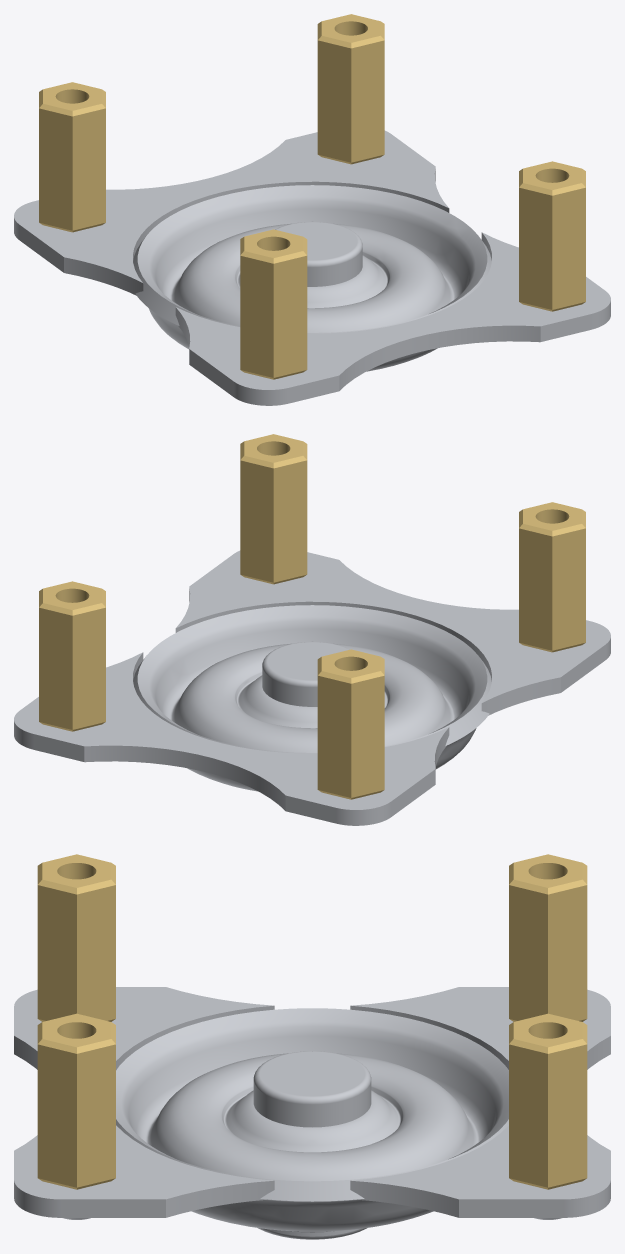
The model's file is swivel_caster_30mm_base.glb.
3 views of the same model, one above another, from view 1: azimuth 30°, elevation 25°; view 2: azimuth 150°, elevation 25°; view 3: azimuth 270°, elevation 25° (orthographic). The views are drawn at different scales.
Visible parts, largest first — view 1: plate, standoffs; view 2: plate, standoffs; view 3: plate, standoffs.
Part boxes in pixels (left/top/right/bottom): plate: left=14, top=130, right=610, bottom=405; standoffs: left=39, top=14, right=585, bottom=379; plate: left=14, top=550, right=610, bottom=825; standoffs: left=39, top=434, right=585, bottom=799; plate: left=14, top=987, right=610, bottom=1239; standoffs: left=37, top=854, right=587, bottom=1189.
Bounding box in the file's own units: 0.032 × 0.0183 × 0.038.
